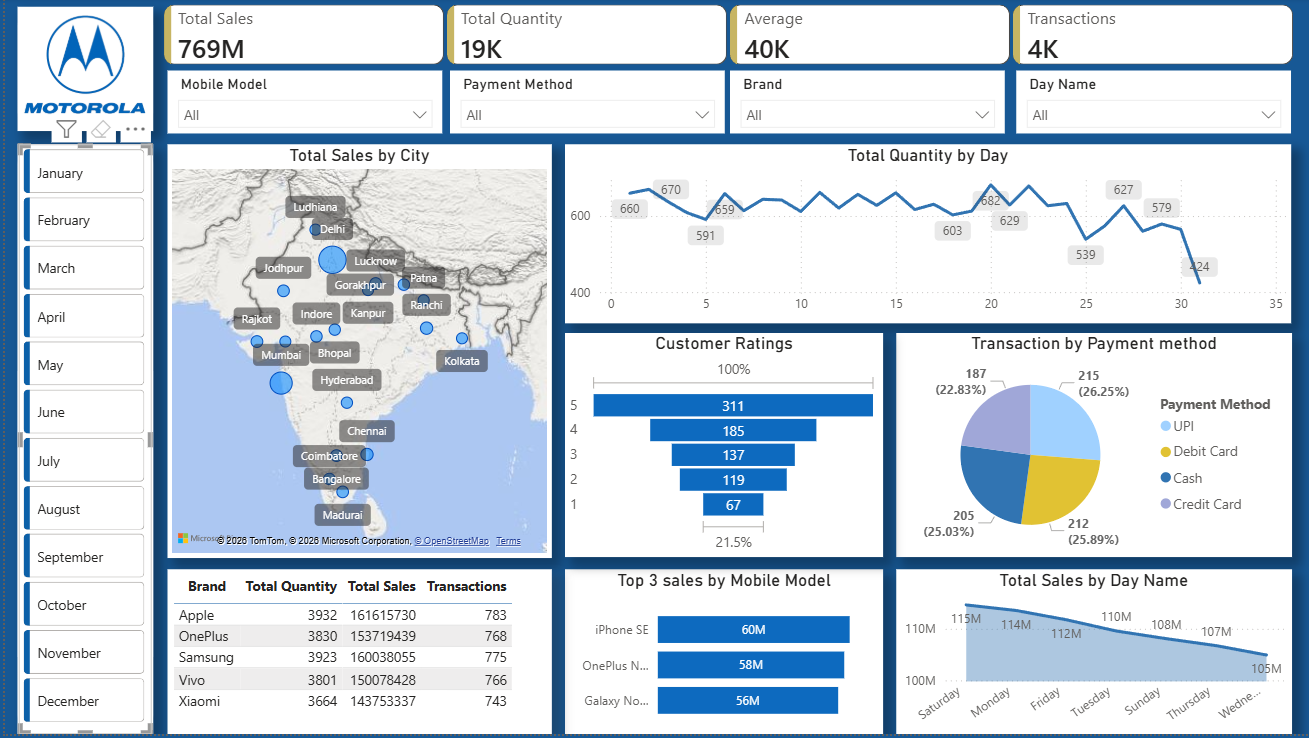

This screenshot's page, from the dashboard's own definition file:
{"tool":"powerbi","page":{"name":"Page 1","canvas":[1280,720],"ordinal":0},"visuals":[{"type":"shape","box":[12.7,8.9,132.9,121.5],"z":0},{"type":"image","box":[12.7,6.3,132.9,126.6],"z":1000},{"type":"shape","box":[12.3,142.7,133.1,577.7],"z":2000},{"type":"advancedSlicerVisual","fields":{"Values":["Sales Data.Date.Variation.Date Hierarchy.Month"]},"box":[13.7,142.7,129,577.7],"z":3000},{"type":"cardVisual","fields":{"Data":["Sales Data.Total Sales","Sales Data.Total Quantity","Sales Data.Average","Sales Data.Transactions"]},"box":[149.6,0,1118.4,71.4],"z":4000},{"type":"map","fields":{"Category":["Sales Data.City"],"Size":["Sales Data.Total Sales"]},"box":[159.2,142.7,376,404.8],"z":5000},{"type":"lineChart","fields":{"Category":["Sales Data.Date.Variation.Date Hierarchy.Month","Sales Data.Date.Variation.Date Hierarchy.Day"],"Y":["Sales Data.Total Quantity"]},"box":[547.8,143.1,710.5,174.9],"z":6000},{"type":"clusteredBarChart","title":"Top 3 sales by Mobile Model","fields":{"Category":["Sales Data.Mobile Model"],"Y":["Sales Data.Total Sales"]},"box":[547.5,558.5,311.5,161.9],"z":7000},{"type":"pieChart","title":"Transaction by Payment method","fields":{"Y":["Sales Data.Transactions"],"Category":["Sales Data.Payment Method"]},"box":[871.4,328,387,219.6],"z":8000},{"type":"funnel","title":"Customer Ratings","fields":{"Category":["Sales Data.Customer Ratings"],"Y":["CountNonNull(Sales Data.Customer Ratings)"]},"box":[547.5,328,311.5,219.6],"z":9000},{"type":"areaChart","fields":{"Category":["Sales Data.Day Name"],"Y":["Sales Data.Total Sales"]},"box":[871.4,558.5,387,161.9],"z":10000},{"type":"tableEx","fields":{"Values":["Sales Data.Brand","Sales Data.Total Quantity","Sales Data.Total Sales","Sales Data.Transactions"]},"box":[159.2,558.5,376,161.9],"z":11000},{"type":"slicer","fields":{"Values":["Sales Data.Mobile Model"]},"box":[159.2,71.4,269,61.7],"z":12000},{"type":"slicer","fields":{"Values":["Sales Data.Day Name"]},"box":[989.4,71.4,269,61.7],"z":13000},{"type":"slicer","fields":{"Values":["Sales Data.Payment Method"]},"box":[435,71.4,269,61.7],"z":14000},{"type":"slicer","fields":{"Values":["Sales Data.Brand"]},"box":[709.4,71.4,269,61.7],"z":15000}]}

Visuals, with their boxes in screenshot pixels (x1, y1, x2, y2), scaled from the page's 1280x720 canvas onto the 1309x738 screenshot:
shape: {"x1": 13, "y1": 9, "x2": 149, "y2": 134}
image: {"x1": 13, "y1": 6, "x2": 149, "y2": 136}
shape: {"x1": 13, "y1": 146, "x2": 149, "y2": 737}
advancedSlicerVisual - Sales Data.Date.Variation.Date Hierarchy.Month: {"x1": 14, "y1": 146, "x2": 146, "y2": 737}
cardVisual - Sales Data.Total Sales x Sales Data.Total Quantity: {"x1": 153, "y1": 0, "x2": 1297, "y2": 73}
map - Sales Data.City x Sales Data.Total Sales: {"x1": 163, "y1": 146, "x2": 547, "y2": 561}
lineChart - Sales Data.Date.Variation.Date Hierarchy.Month x Sales Data.Date.Variation.Date Hierarchy.Day: {"x1": 560, "y1": 147, "x2": 1287, "y2": 326}
"Top 3 sales by Mobile Model" clusteredBarChart: {"x1": 560, "y1": 572, "x2": 878, "y2": 737}
"Transaction by Payment method" pieChart: {"x1": 891, "y1": 336, "x2": 1287, "y2": 561}
"Customer Ratings" funnel: {"x1": 560, "y1": 336, "x2": 878, "y2": 561}
areaChart - Sales Data.Day Name x Sales Data.Total Sales: {"x1": 891, "y1": 572, "x2": 1287, "y2": 737}
tableEx - Sales Data.Brand x Sales Data.Total Quantity: {"x1": 163, "y1": 572, "x2": 547, "y2": 737}
slicer - Sales Data.Mobile Model: {"x1": 163, "y1": 73, "x2": 438, "y2": 136}
slicer - Sales Data.Day Name: {"x1": 1012, "y1": 73, "x2": 1287, "y2": 136}
slicer - Sales Data.Payment Method: {"x1": 445, "y1": 73, "x2": 720, "y2": 136}
slicer - Sales Data.Brand: {"x1": 725, "y1": 73, "x2": 1001, "y2": 136}
